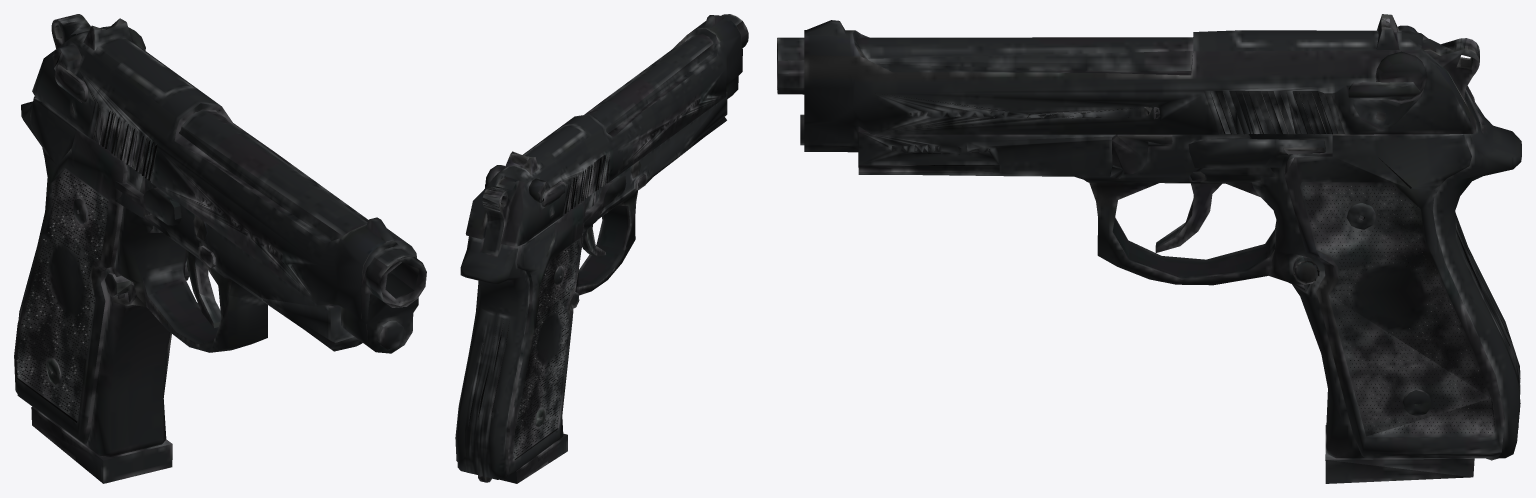
The model's file is h5_grey.glb.
3 renders of one model, left to right at view 1: azimuth 30°, elevation 25°; view 2: azimuth 150°, elevation 25°; view 3: azimuth 270°, elevation 25°, orthographic. The views are drawn at different scales.
Visible parts, largest first — view 1: body; view 2: body; view 3: body.
Boxes of the visible parts, x1,y1,x2,y2 form: body: [14, 14, 426, 483]; body: [455, 14, 748, 483]; body: [777, 14, 1521, 483].
Bounding box in the file's own units: 0.0292 × 0.1319 × 0.2.
Materials: 1 (1 with a texture image).
